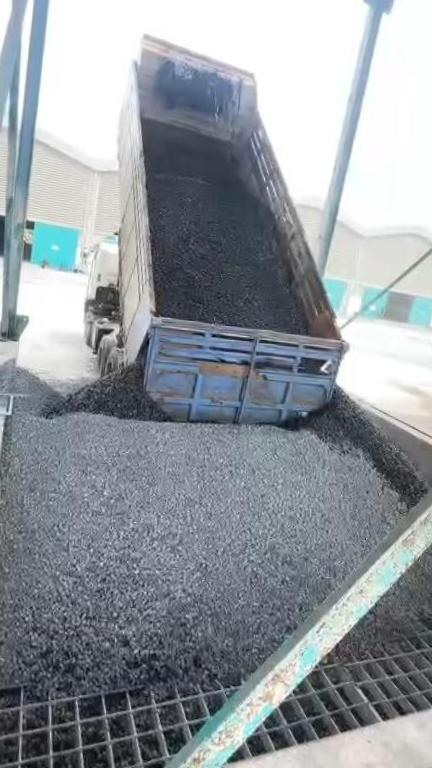gravel: (0, 357, 425, 694), (143, 121, 307, 333), (341, 523, 432, 654)
sand: (378, 381, 432, 455)
